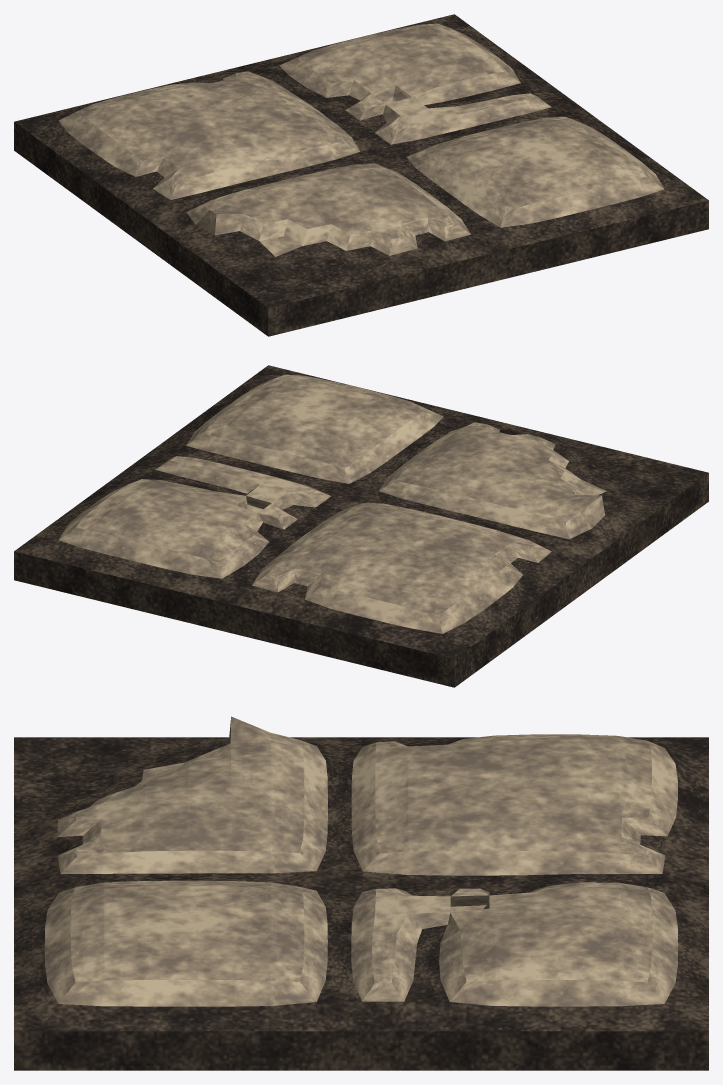
Rendered from floor_a.glb.
The picture shows the model from 3 angles, top to bottom: view 1: azimuth 30°, elevation 25°; view 2: azimuth 150°, elevation 25°; view 3: azimuth 270°, elevation 25°; orthographic projection. The views are drawn at different scales.
Parts seen in each view (by area): view 1: crypt_floor_a; view 2: crypt_floor_a; view 3: crypt_floor_a.
Boxes of the visible parts, x1,y1,x2,y2 form: crypt_floor_a: [14, 14, 708, 336]; crypt_floor_a: [14, 365, 708, 687]; crypt_floor_a: [14, 716, 708, 1070].
Size of the model in its own units: 1 by 0.125 by 1.
Materials: 1 (1 with a texture image).
